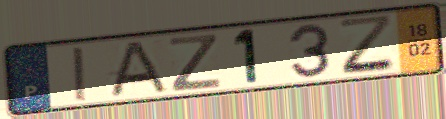1: (228, 26, 261, 88)
3: (286, 21, 333, 81)
A: (104, 39, 172, 100)
I: (70, 44, 91, 104)
Z: (336, 12, 400, 77), (167, 32, 223, 94)
